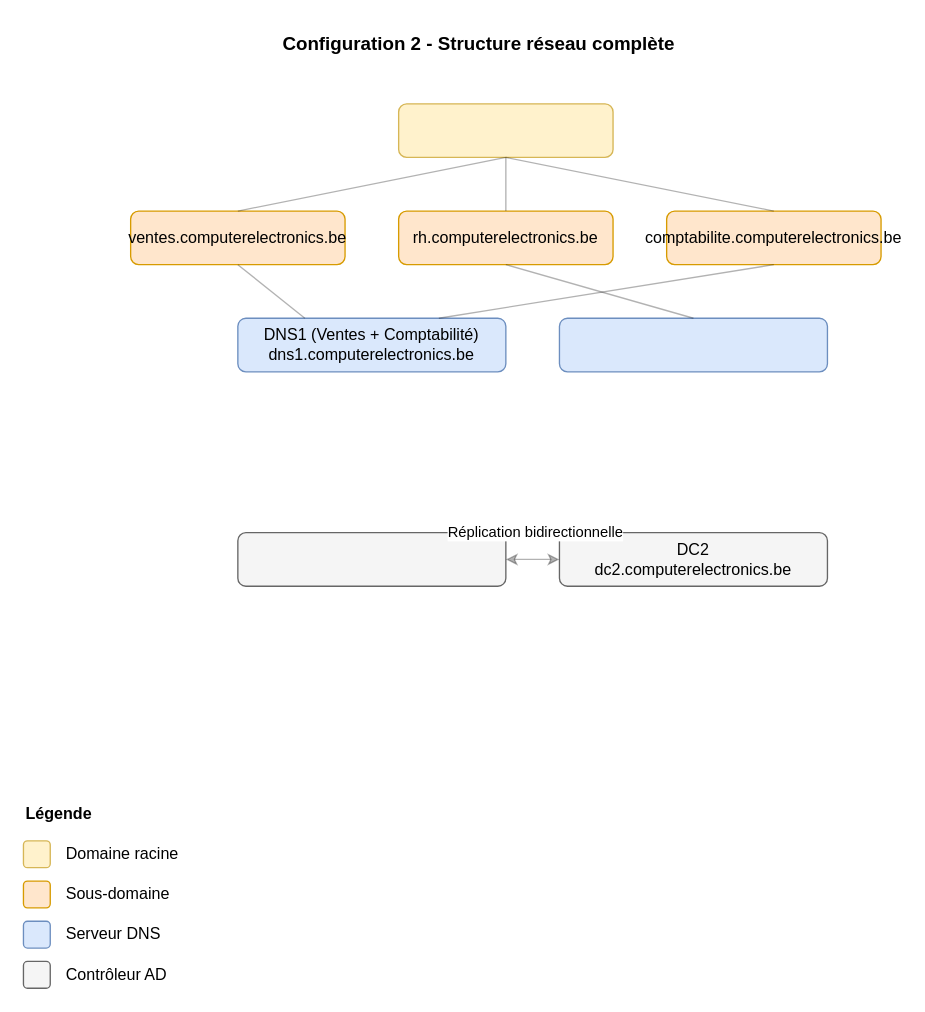
This 925x1012 diagram has some shape labels left out. The centre of each missing label's shape, as x and y in pixels:
"computerelectronics.be" goes at pixel 505 130.
"DC1 dc1.computerelectronics.be" goes at pixel 371 558.
"DNS2 (RH) dns2.computerelectronics.be" goes at pixel 692 344.
